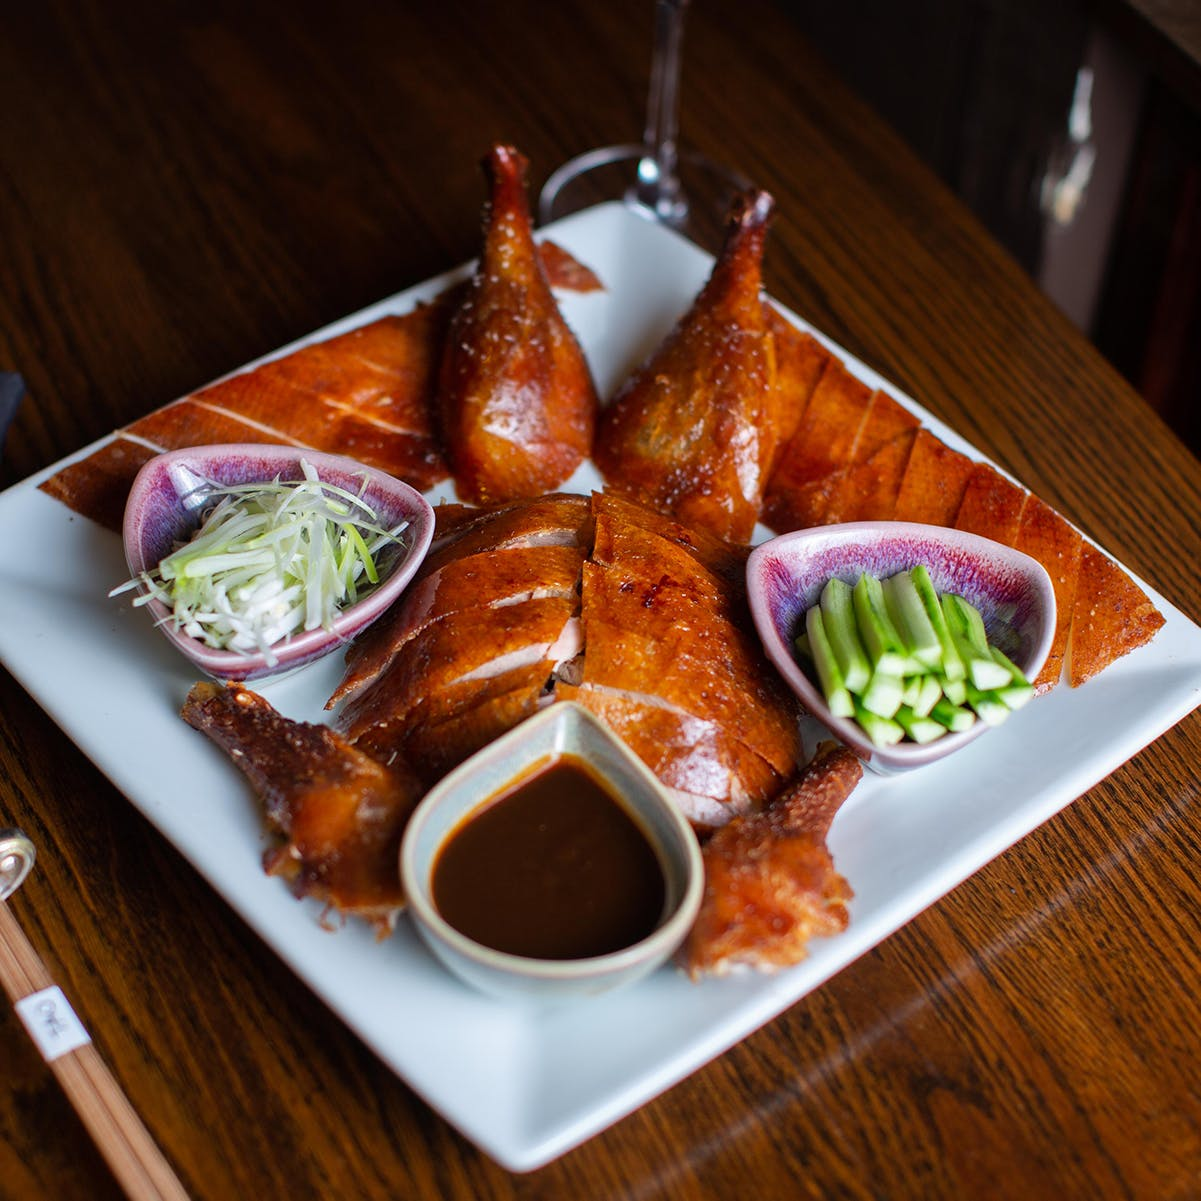peking_duck: (48, 77, 1201, 1115)
